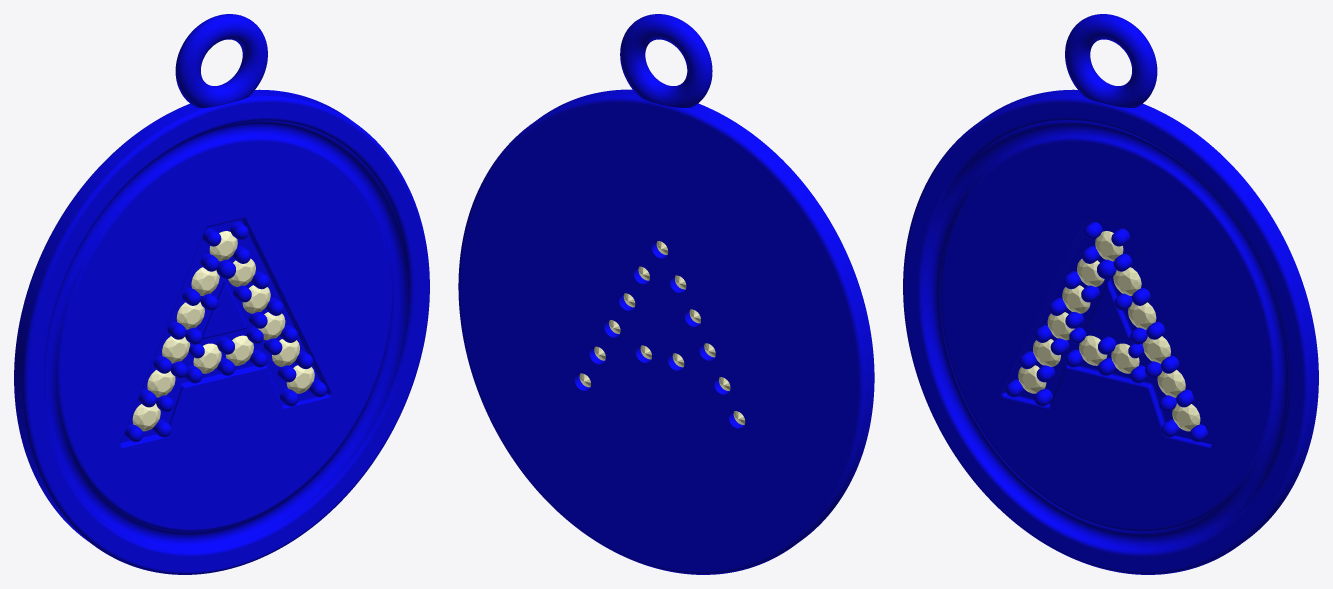
3 renders of one model, left to right at view 1: azimuth 30°, elevation 25°; view 2: azimuth 150°, elevation 25°; view 3: azimuth 330°, elevation 25°, orthographic.
Visible parts, largest first — view 1: p43-pingenteA.3dm, Brillante (×10); view 2: p43-pingenteA.3dm; view 3: p43-pingenteA.3dm, Brillante (×10).
Part boxes in pixels (bbox=[...]): p43-pingenteA.3dm: bbox=[14, 14, 429, 574]; Brillante (×10): bbox=[132, 231, 314, 431]; p43-pingenteA.3dm: bbox=[458, 14, 874, 574]; p43-pingenteA.3dm: bbox=[903, 14, 1318, 574]; Brillante (×10): bbox=[1018, 231, 1200, 431].
Size of the model in its own units: 2.44 by 3.16 by 0.1633.
